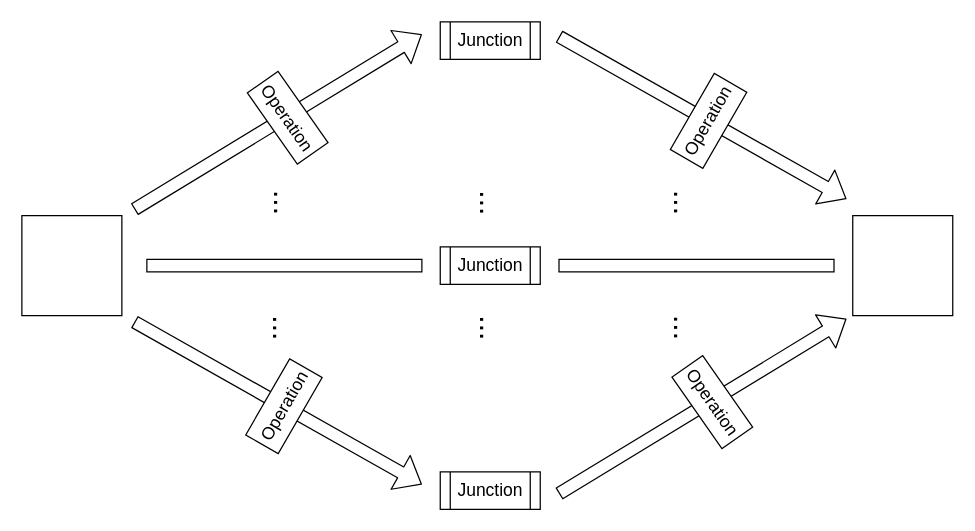
The diagram is 975 pixels wide and 531 high, and some of its shapes have lost their labels. Here are the shapes that lost their labels. From the top down, the box of each, then its label:
(21, 214, 122, 316): Source
(852, 214, 953, 316): Sink
